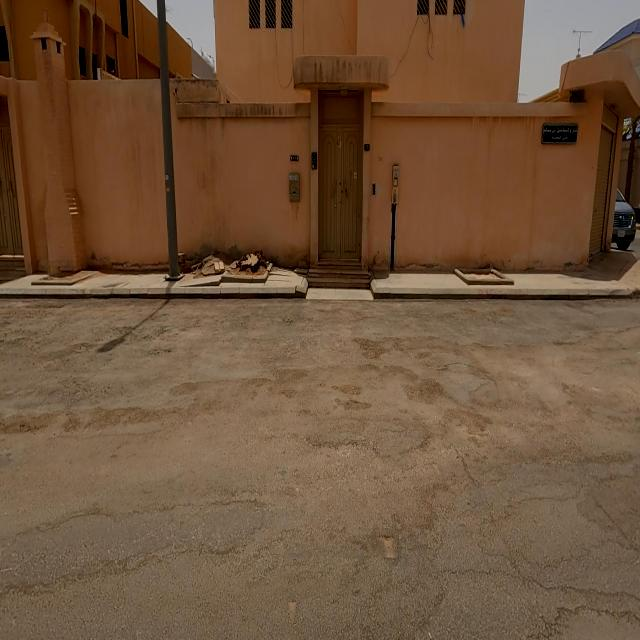debris: (208, 198, 296, 340), (162, 200, 262, 318)
